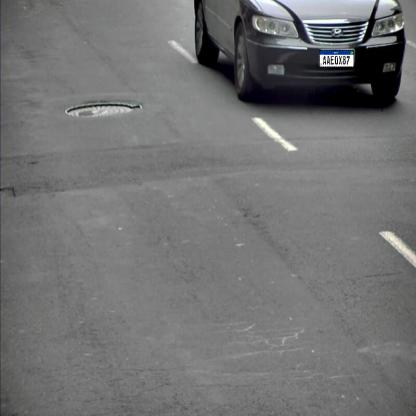PlacaM: (319, 50, 354, 67)
